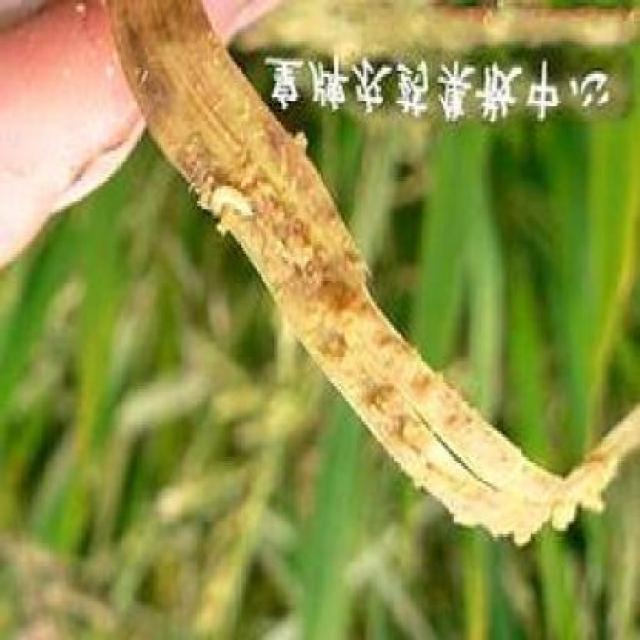whorl-maggot: (202, 174, 256, 232)
